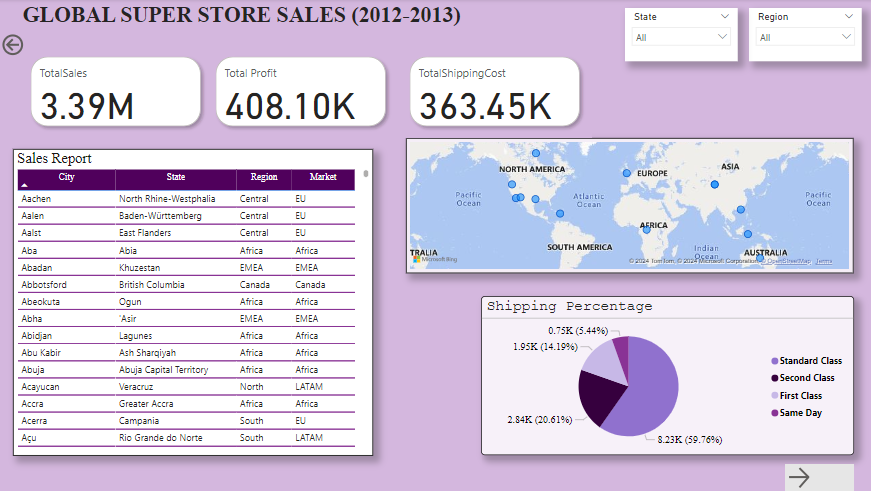

The page's visual inventory and layout, read from the dashboard file:
{"tool":"powerbi","page":{"name":"Report (2012 - 2013)","canvas":[1280,720],"ordinal":1},"visuals":[{"type":"pieChart","title":"Shipping Percentage","fields":{"Category":["Orders.Ship Mode"],"Y":["CountNonNull(Orders.Ship Mode)"]},"box":[705.5,435.1,545.9,233.5],"z":0},{"type":"tableEx","title":"Sales Report","fields":{"Values":["Orders.City","Orders.State","Orders.Region","Orders.Market"]},"box":[20.2,220.1,527.5,448.5],"z":1000},{"type":"textbox","box":[28.6,0,700.5,52.1],"z":2000},{"type":"slicer","fields":{"Values":["Orders.Region"]},"box":[1097.6,13.2,165.4,77.6],"z":3000},{"type":"slicer","fields":{"Values":["Orders.State"]},"box":[916.1,13.2,165.4,77.6],"z":4000},{"type":"map","fields":{"Category":["Orders.Region"]},"box":[596.3,203.3,655.1,198.2],"z":5000},{"type":"cardVisual","fields":{"Data":["Orders.TotalProfit"]},"box":[300.7,67.2,283.9,136.1],"z":6000},{"type":"cardVisual","fields":{"Data":["Orders.TotalShippingCost"]},"box":[584.6,67.2,283.9,136.1],"z":7000},{"type":"cardVisual","fields":{"Data":["Orders.TotalSales"]},"box":[28.6,67.2,283.9,136.1],"z":8000},{"type":"actionButton","box":[1150.7,680.3,100.8,40.3],"z":9000},{"type":"actionButton","box":[0,47,58.8,40.3],"z":10000}]}

Visuals, with their boxes in screenshot pixels (x1, y1, x2, y2), scaled from the page's 1280x720 canvas onto the 871x491 screenshot:
"Shipping Percentage" pieChart: [480, 297, 852, 456]
"Sales Report" tableEx: [14, 150, 373, 456]
textbox: [19, 0, 496, 36]
slicer - Orders.Region: [747, 9, 859, 62]
slicer - Orders.State: [623, 9, 736, 62]
map - Orders.Region: [406, 139, 852, 274]
cardVisual - Orders.TotalProfit: [205, 46, 398, 139]
cardVisual - Orders.TotalShippingCost: [398, 46, 591, 139]
cardVisual - Orders.TotalSales: [19, 46, 213, 139]
actionButton: [783, 464, 852, 490]
actionButton: [0, 32, 40, 60]
